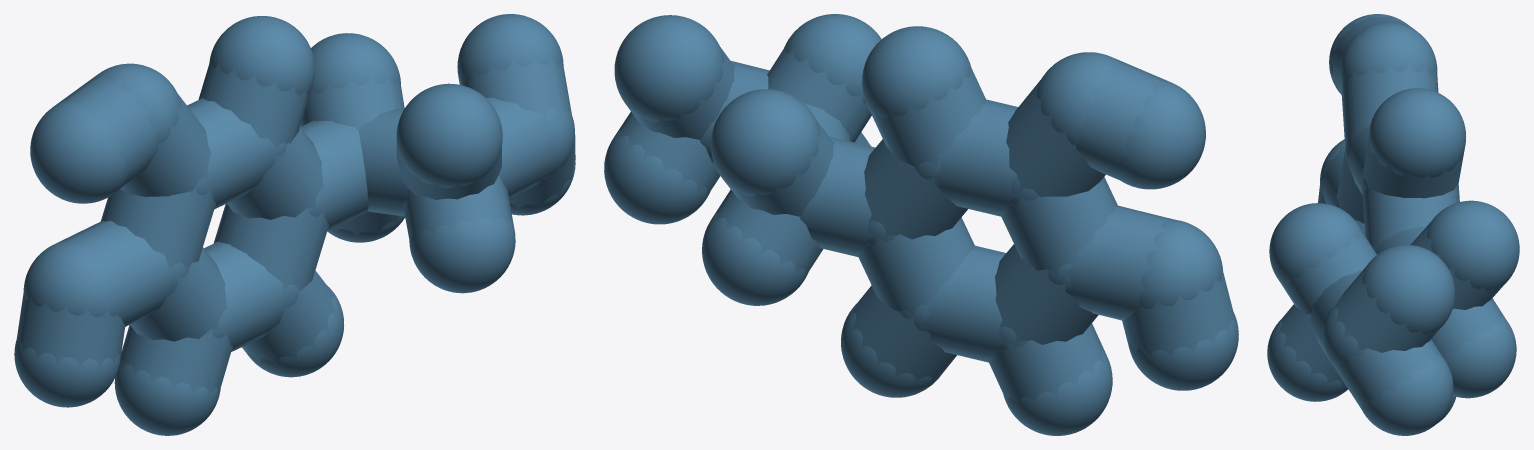
File: 681-sticks-print_NIH3D.glb
3 views of the same model, side by side, from view 1: azimuth 30°, elevation 25°; view 2: azimuth 150°, elevation 25°; view 3: azimuth 270°, elevation 25° (orthographic). The views are drawn at different scales.
Visible parts, largest first — view 1: bonds, atoms; view 2: bonds, atoms; view 3: atoms, bonds.
Boxes of the visible parts, x1,y1,x2,y2 form: bonds: (15, 55, 575, 398); atoms: (14, 14, 575, 435); bonds: (614, 41, 1236, 407); atoms: (604, 14, 1238, 435); atoms: (1267, 14, 1519, 435); bonds: (1276, 15, 1508, 412).
Bounding box in the file's own units: 9.9 × 6.11 × 4.15.
